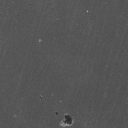corrosion: (62, 113, 76, 127), (37, 38, 43, 43), (54, 112, 59, 116), (86, 10, 89, 13)
